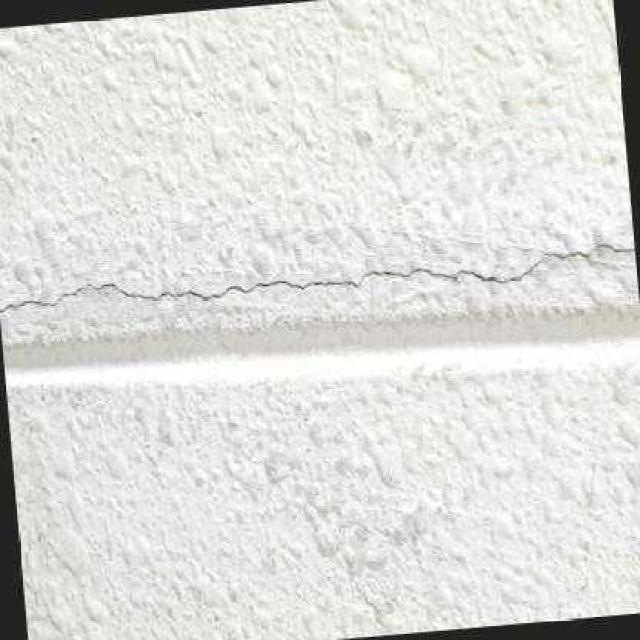D00: (0, 239, 635, 312)
